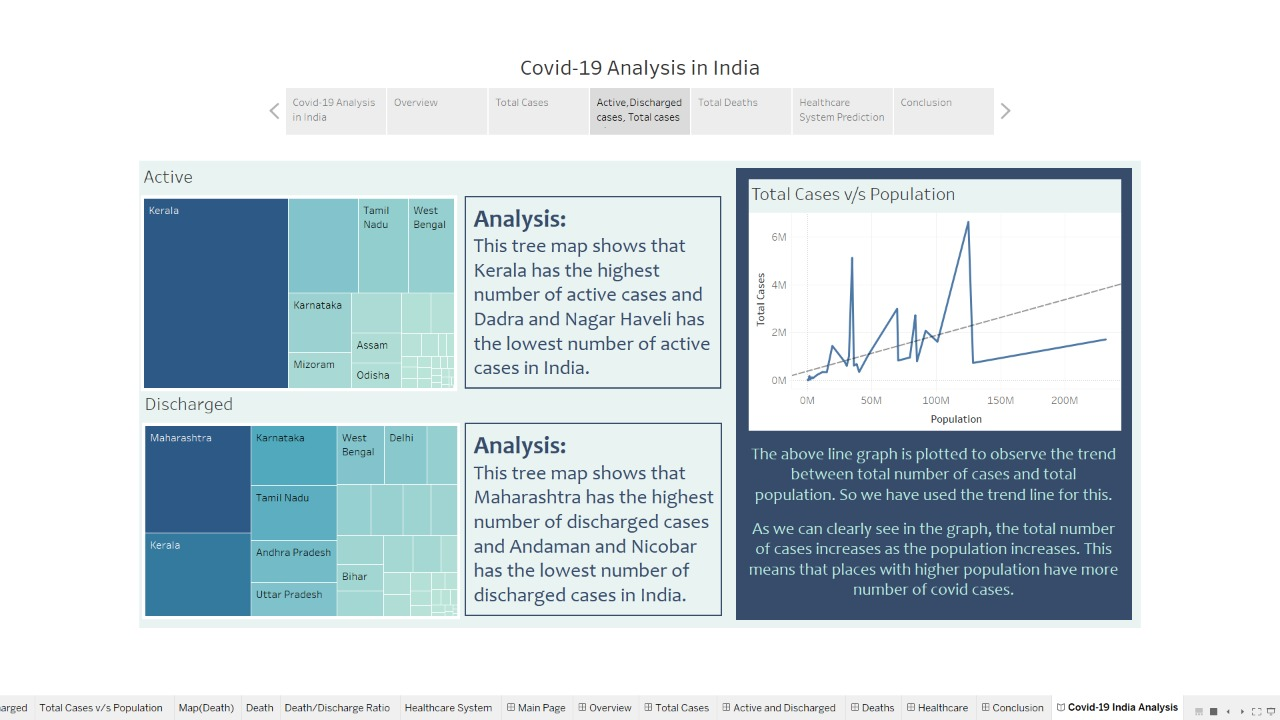

What the dashboard file says about the page in this screenshot:
{"tool":"tableau","page":{"name":"Active and Discharged","canvas":[1500,700],"ordinal":0},"visuals":[{"type":"worksheet","title":"Active","mark":"Automatic","box":[1,1,481,344]},{"type":"worksheet","title":"Total Cases v/s Population","mark":"Line","rows":["Total Cases"],"cols":["Population"],"box":[913,27,559,377]},{"type":"text","box":[487,52,385,289]},{"type":"text","box":[487,392,386,290]},{"type":"text","box":[910,404,561,276]}]}

Visuals, with their boxes on the page's 1500x700 design canvas (x1, y1, x2, y2). These are canvas units, not pixel positions in the 1280x720 screenshot, which may show the page scaled, cropped or inside an application window:
"Active" worksheet: locate(1, 1, 482, 345)
"Total Cases v/s Population" worksheet (Line marks): locate(913, 27, 1472, 404)
text: locate(487, 52, 872, 341)
text: locate(487, 392, 873, 682)
text: locate(910, 404, 1471, 680)
